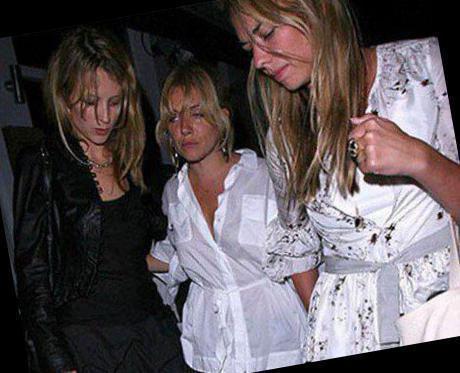Drunk: (229, 9, 315, 94), (65, 59, 123, 147), (162, 82, 219, 165)
